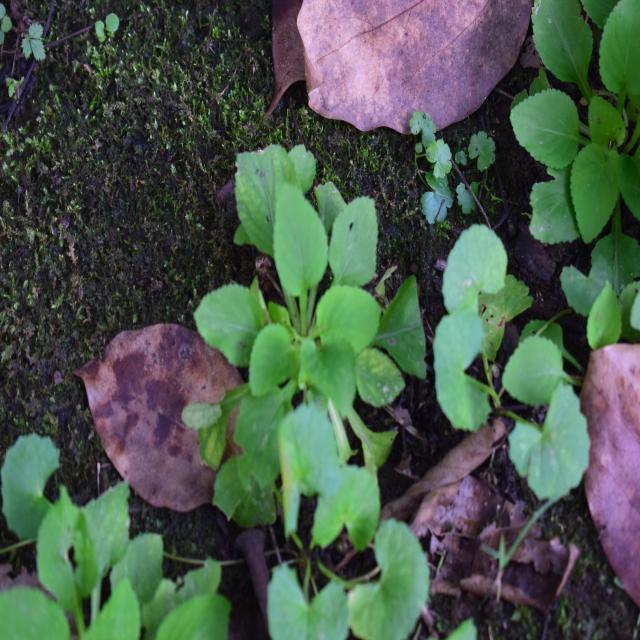Viola: (212, 155, 415, 498)
